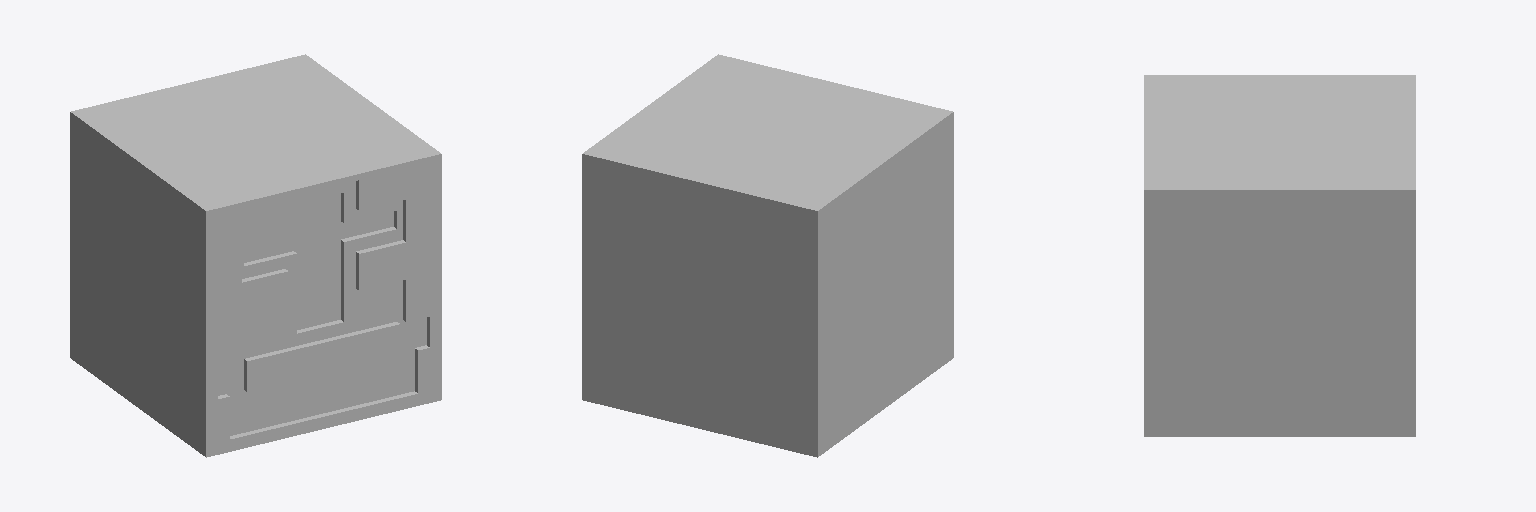
File: player3.obj
3 renders of one model, left to right at view 1: azimuth 30°, elevation 25°; view 2: azimuth 150°, elevation 25°; view 3: azimuth 270°, elevation 25°, orthographic.
Visible parts, largest first — view 1: object 1; view 2: object 1; view 3: object 1.
Boxes of the visible parts, <box> form: object 1: <box>70,54,441,457</box>; object 1: <box>582,54,953,457</box>; object 1: <box>1144,75,1415,436</box>.
Bounding box in the file's own units: 4 × 4 × 4.